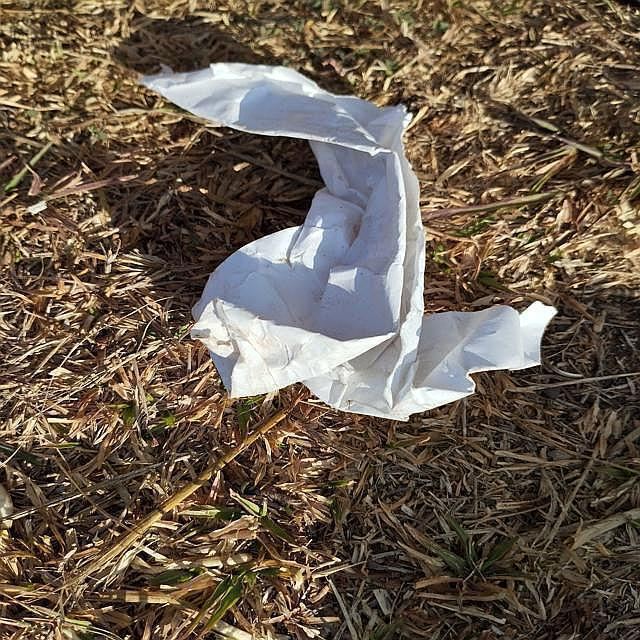Biodegradable: (145, 65, 541, 419)
